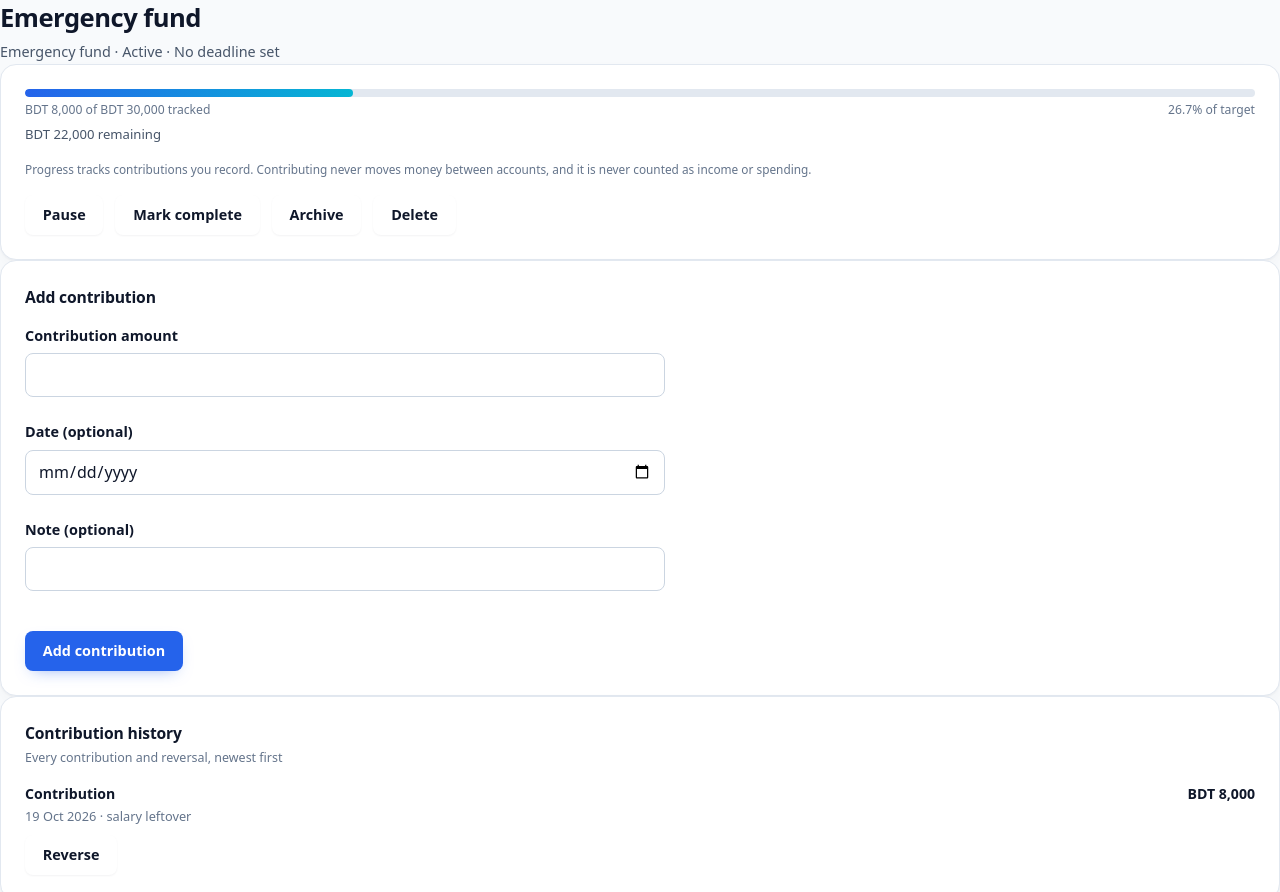
Test: goal detail (wired to the IT-10 ledger endpoints) › reverses a contribution only after confirmation and shows the server message on conflict
This screenshot has width=1280, height=892.
(page scrolled)
Click the button with aria-label "Reverse: BDT 8,000". click: [71, 855]
box: [25,835,117,875]
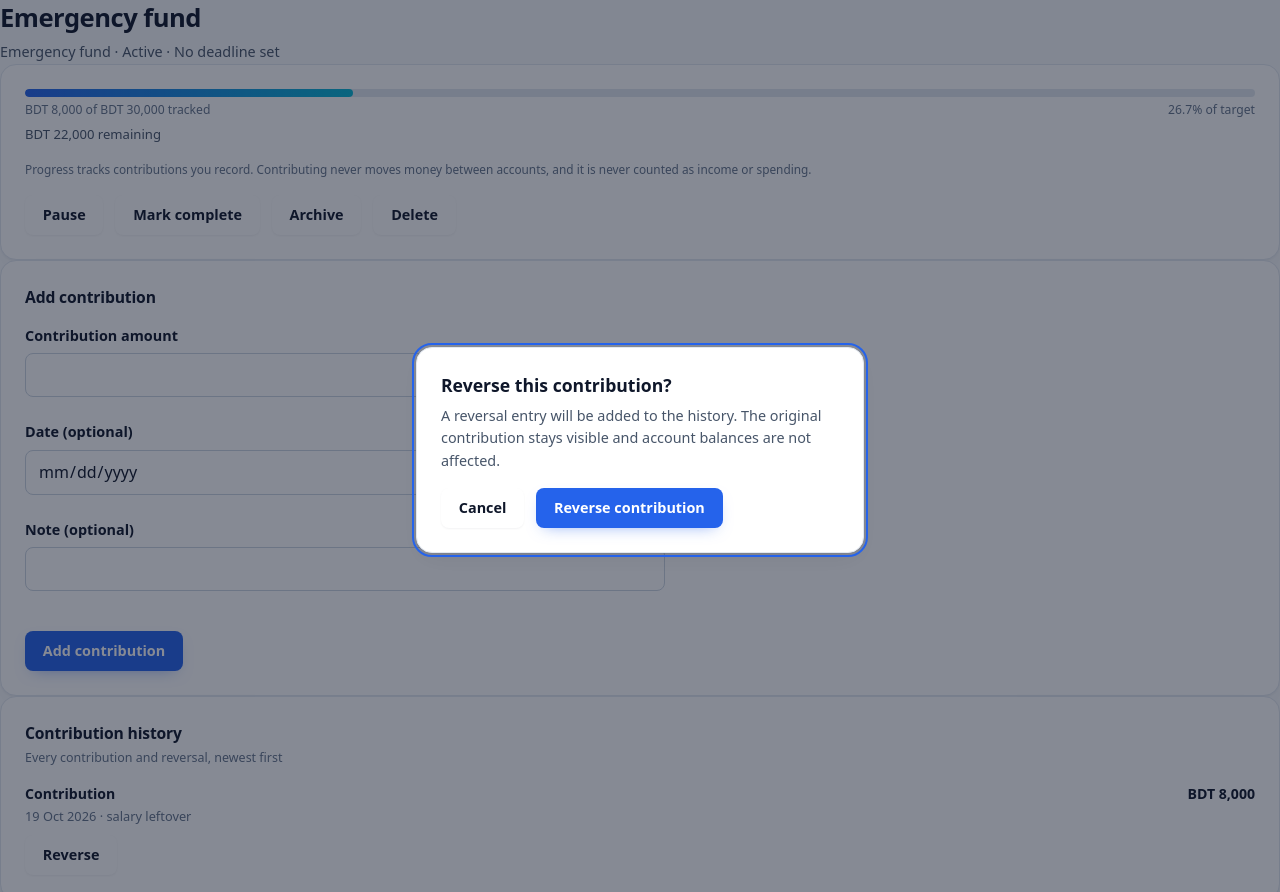
Expected: the dialog is shown, [416,347,864,553]
Click the button "Reverse contribution". click: [629, 508]
box: [536,488,723,528]
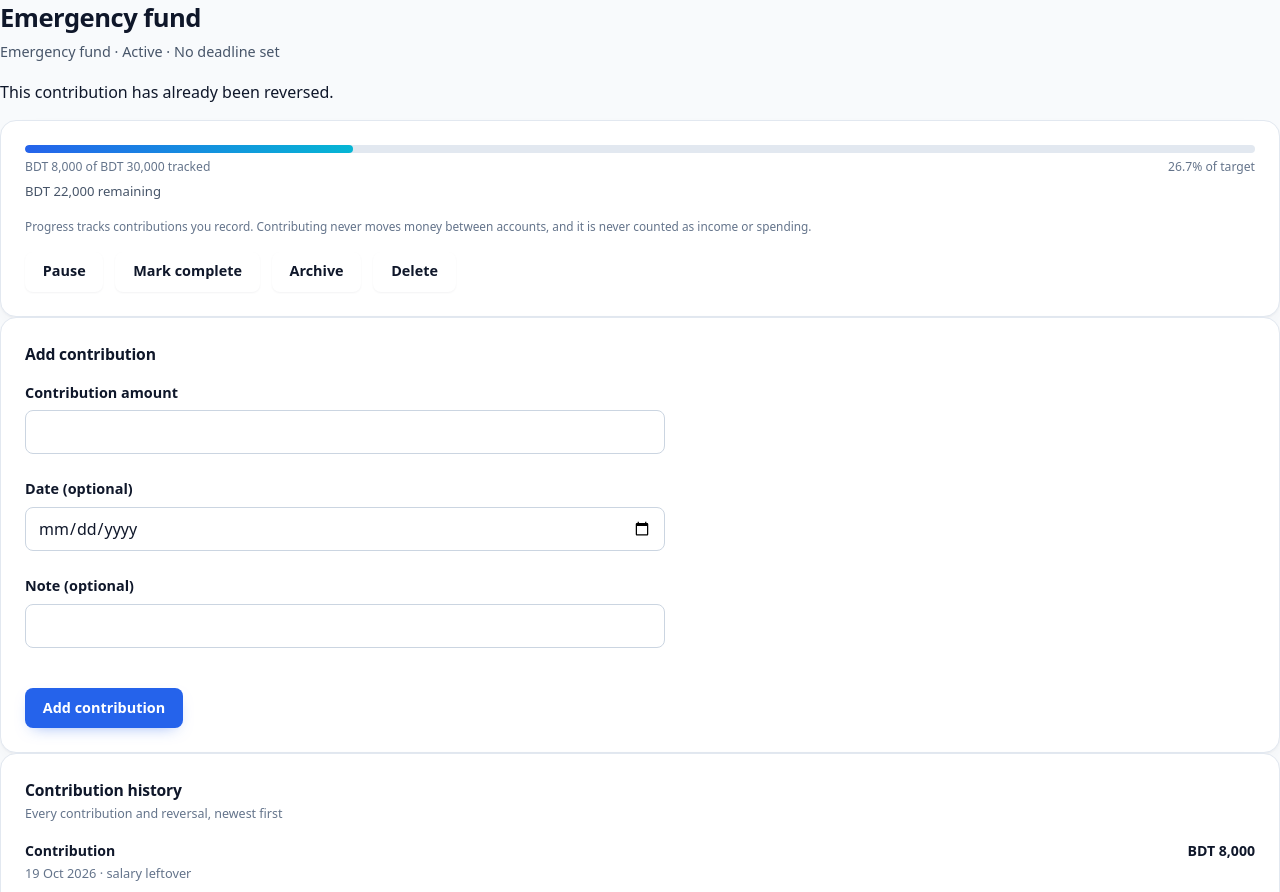
Expected: the text "This contribution has already been reversed." is shown, [0,80,334,102]
